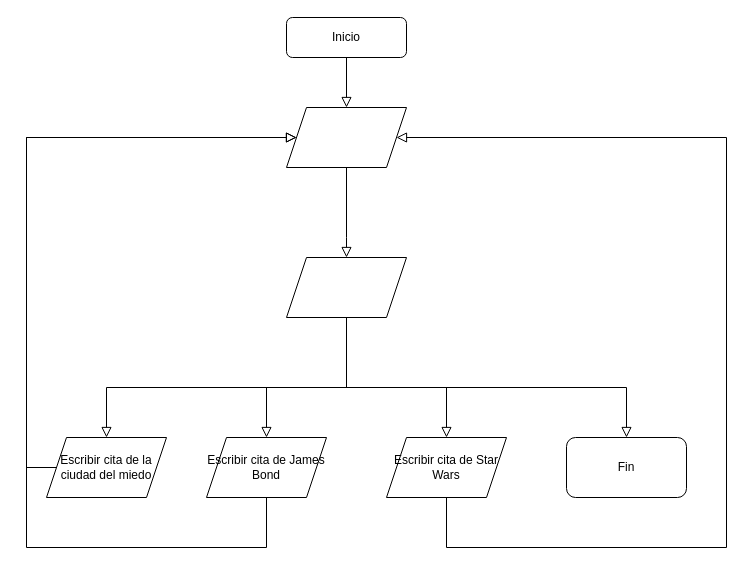
The diagram is 754 pixels wide and 575 high, and some of its shapes have lost their labels. The shapes that lost their labels are listed below. From the top down, each one's centre as x and y in pixels, then its label:
At (346,137): "Escribir menú en pantalla".
At (346,287): "Almacenar el valor introducido en la variable opción".
